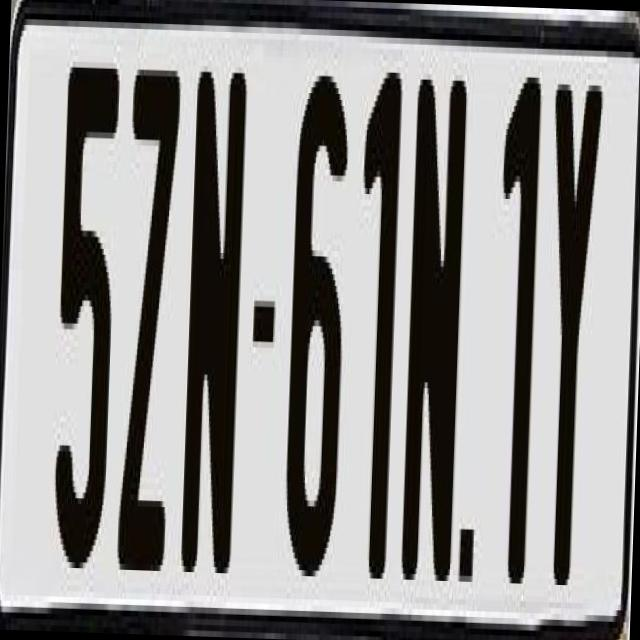1: (484, 76, 546, 601), (348, 71, 408, 608)
5: (50, 55, 120, 558)
6: (280, 69, 356, 583)
N: (400, 73, 474, 581), (179, 59, 248, 596)
Y: (536, 72, 604, 585)
Z: (114, 52, 180, 570)
